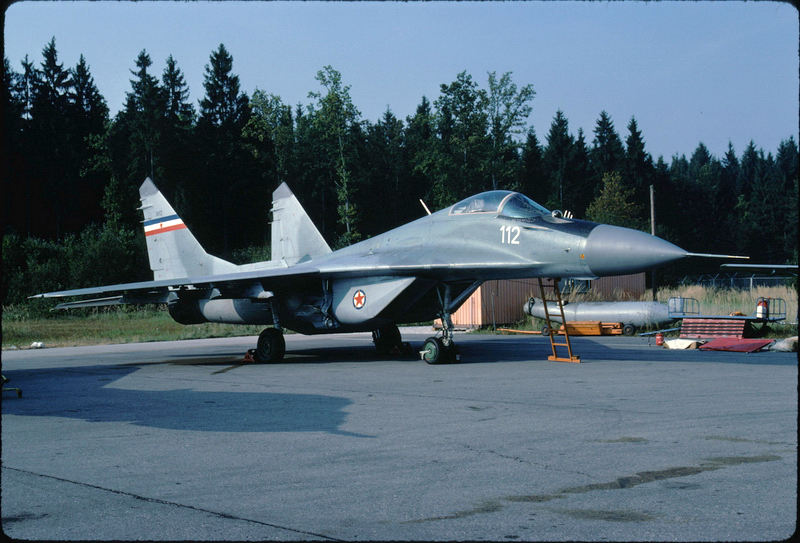Mig-29: (46, 147, 704, 398)
